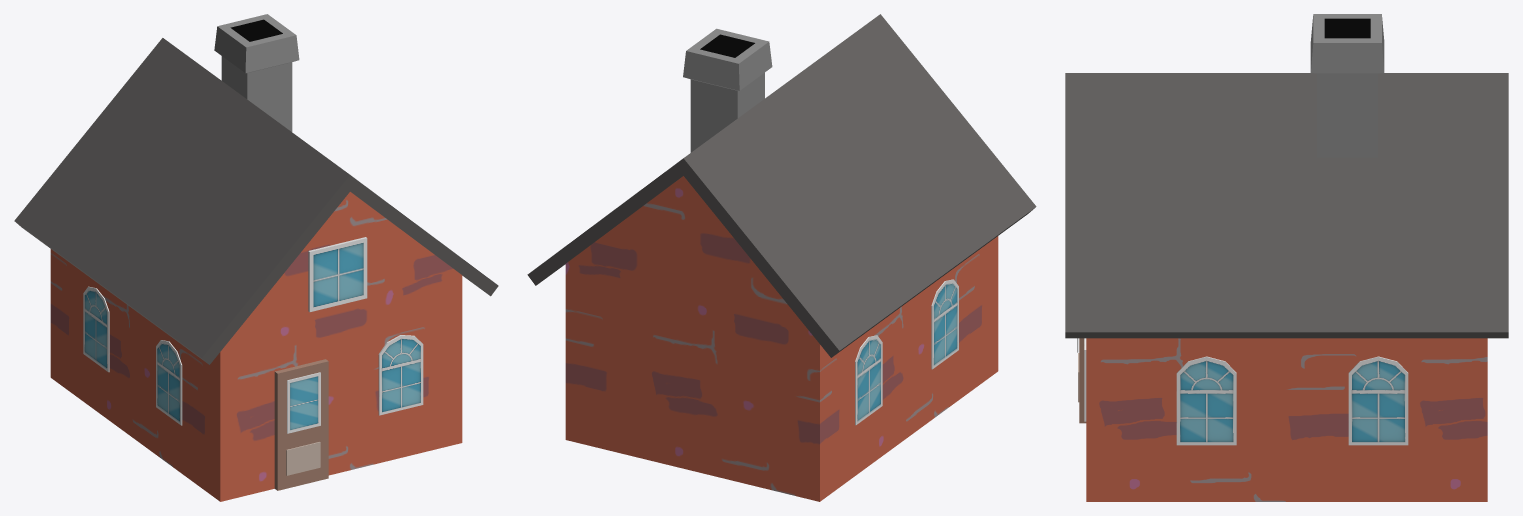
Rendered from House1.fbx.
3 renders of one model, left to right at view 1: azimuth 30°, elevation 25°; view 2: azimuth 150°, elevation 25°; view 3: azimuth 270°, elevation 25°, orthographic. The views are drawn at different scales.
Parts seen in each view (by area): view 1: House1; view 2: House1; view 3: House1.
Boxes of the visible parts, <box> form: House1: <box>14,14,498,501</box>; House1: <box>527,14,1036,501</box>; House1: <box>1065,14,1508,501</box>.
Bounding box in the file's own units: 5.6 × 6.39 × 6.13.
